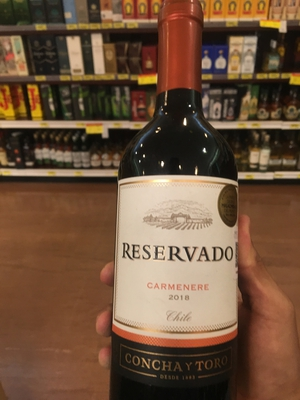reservado carmenere: (110, 6, 244, 400)
